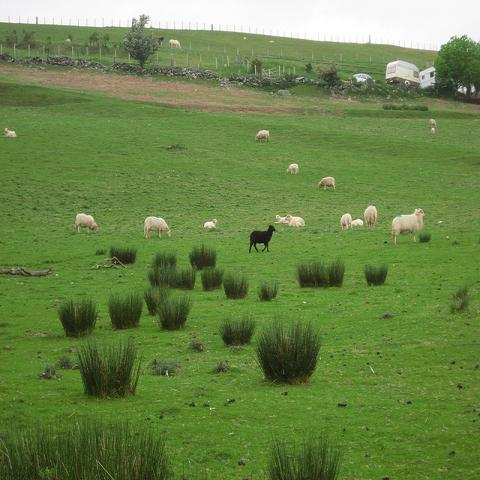car: (348, 74, 375, 82)
truck: (384, 61, 420, 88), (420, 67, 437, 90), (353, 73, 373, 82)
